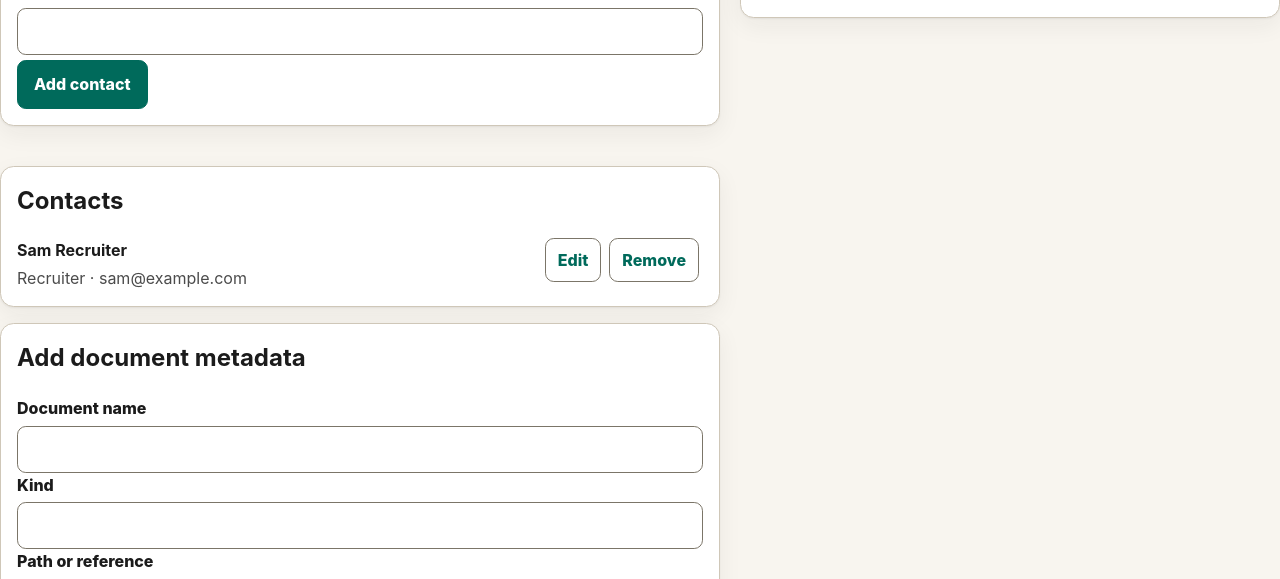
Test: ApplicationDetailPage › removes a contact
(page scrolled)
expect the text "Sam Recruiter" is shown: met, box [17,240,127,260]
Click the button "Remove": (654, 260) [609,238,699,282]
(page scrolled)
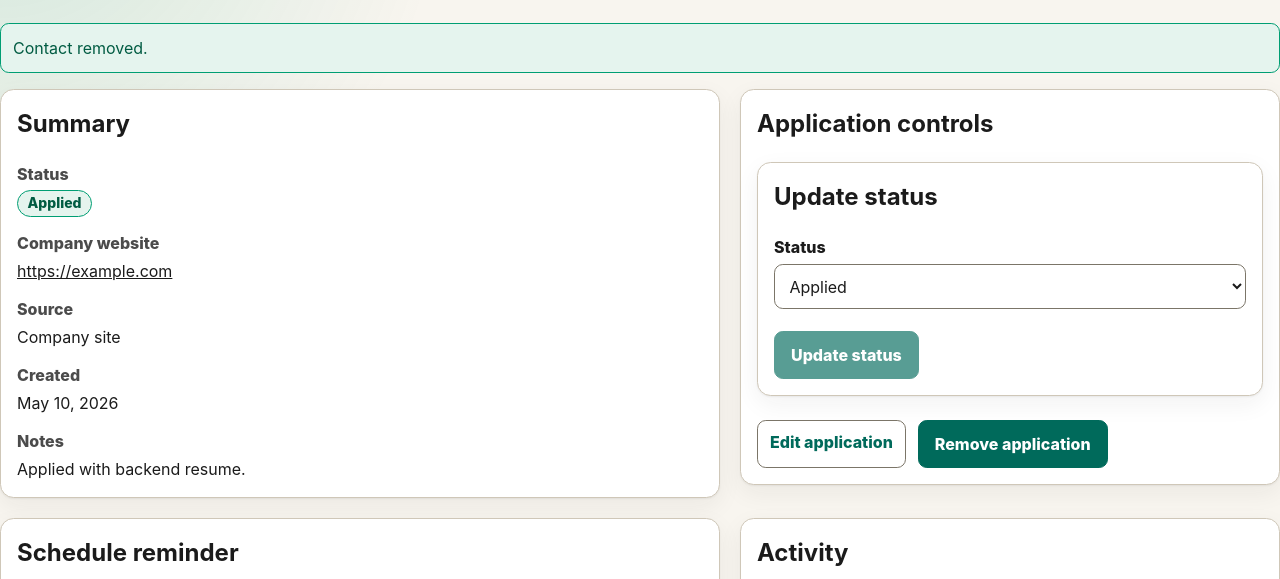
expect the message reads "Contact removed.": met, box [13,38,148,58]
